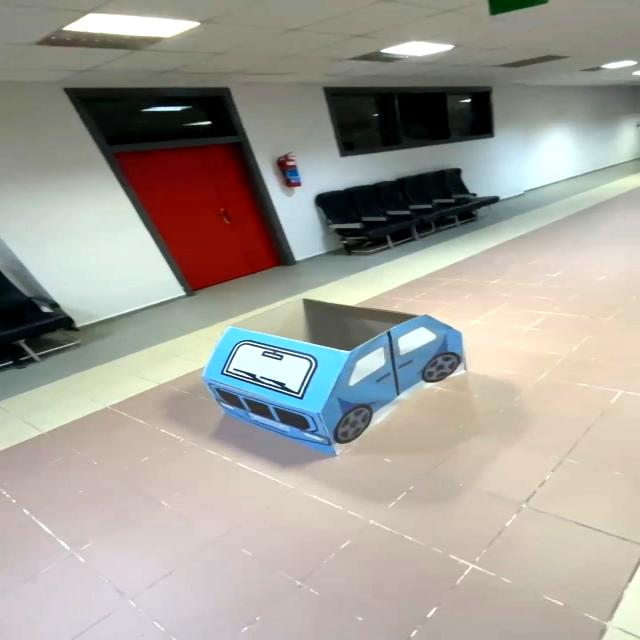blue_car: (183, 280, 495, 459)
